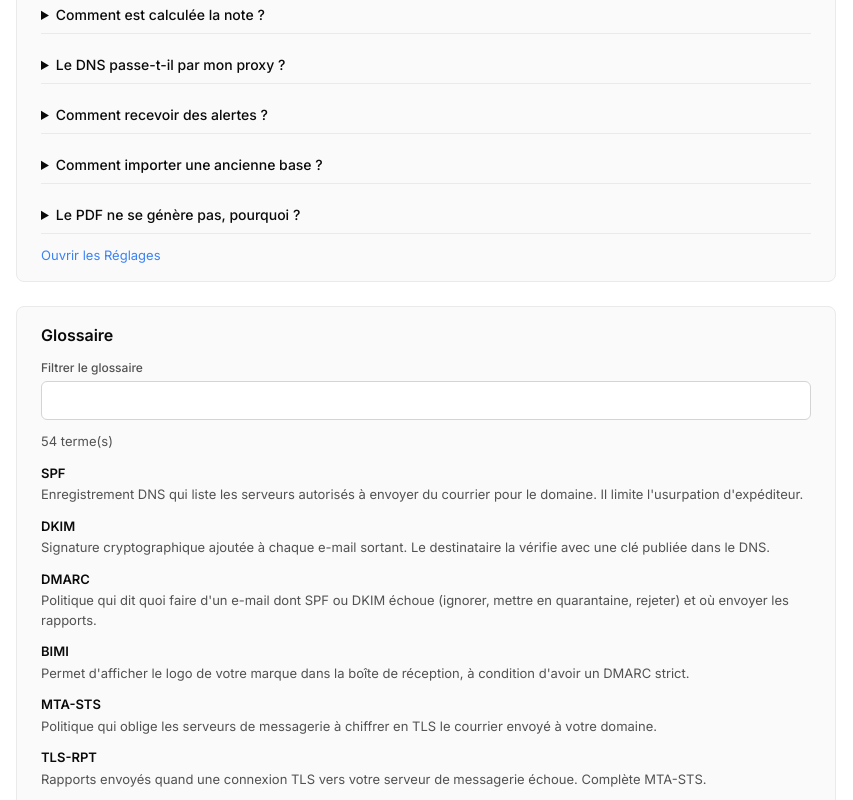
it: page Aide › filtre le glossaire
The width and height of the screenshot is (853, 800).
(page scrolled)
Step 1. Type "dnssec" into the search field labelled "Filtrer le glossaire" → (426, 401), box [41,381,811,420]
(page scrolled)
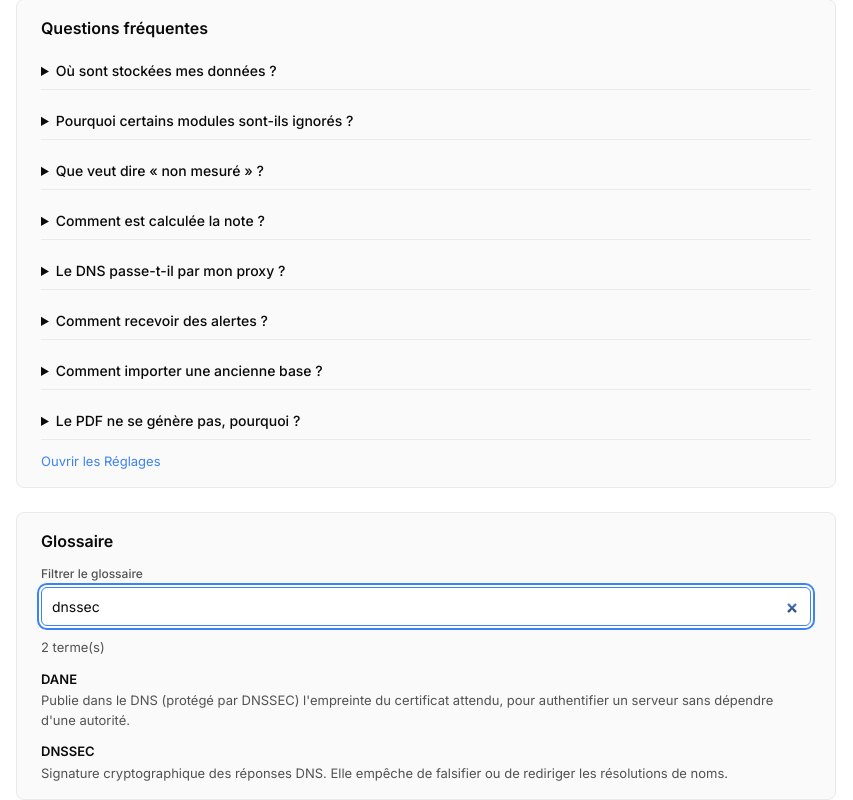
Expected: the text "DNSSEC" is shown, [41,743,95,759]
Result: the text "2 terme(s)" is shown at [41,639,105,655]
